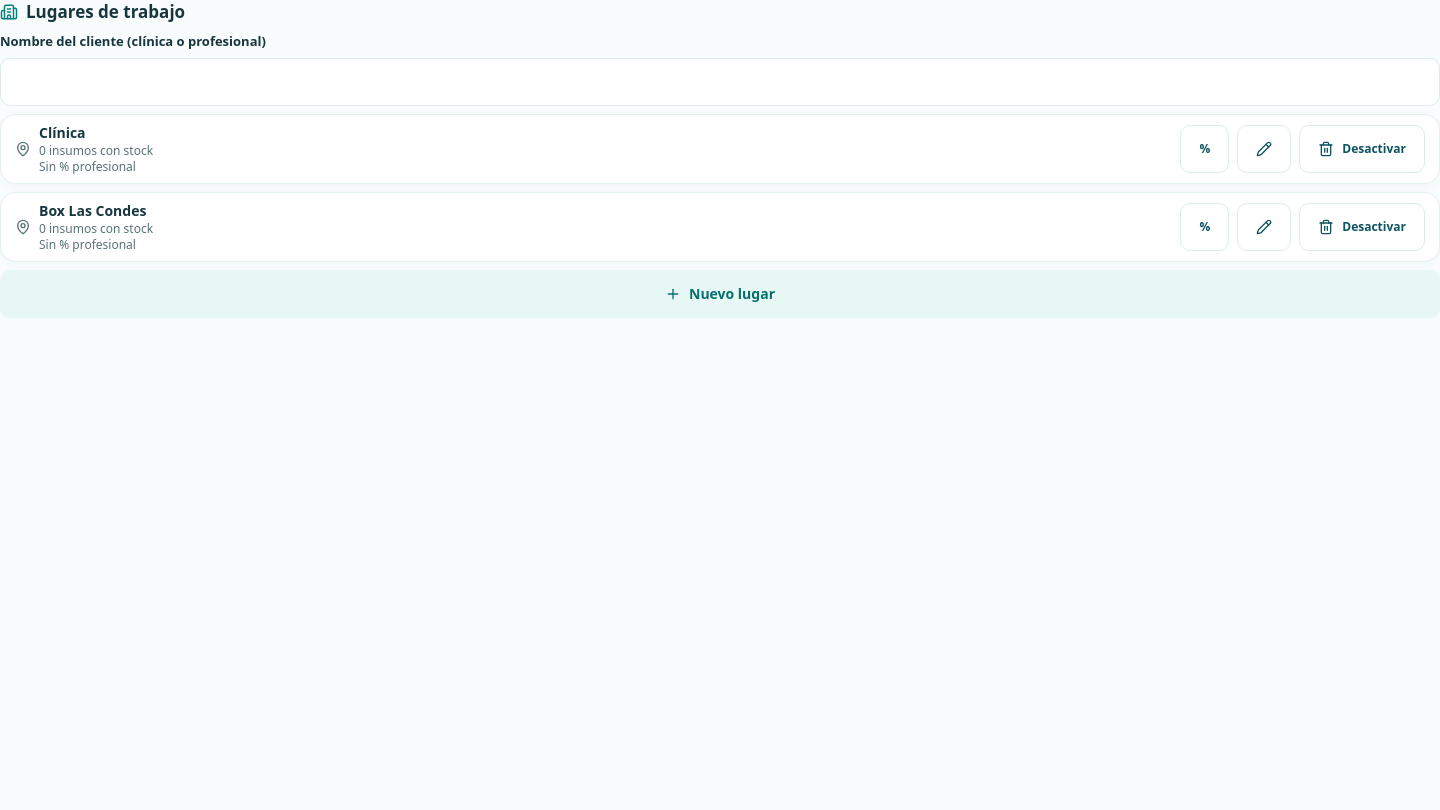
% profesional del lugar (US4) › rechaza un porcentaje fuera de 0–100
This screenshot has width=1440, height=810.
Click the button named "% profesional de Clínica".
click(1205, 148)  # box [1180,124,1229,172]
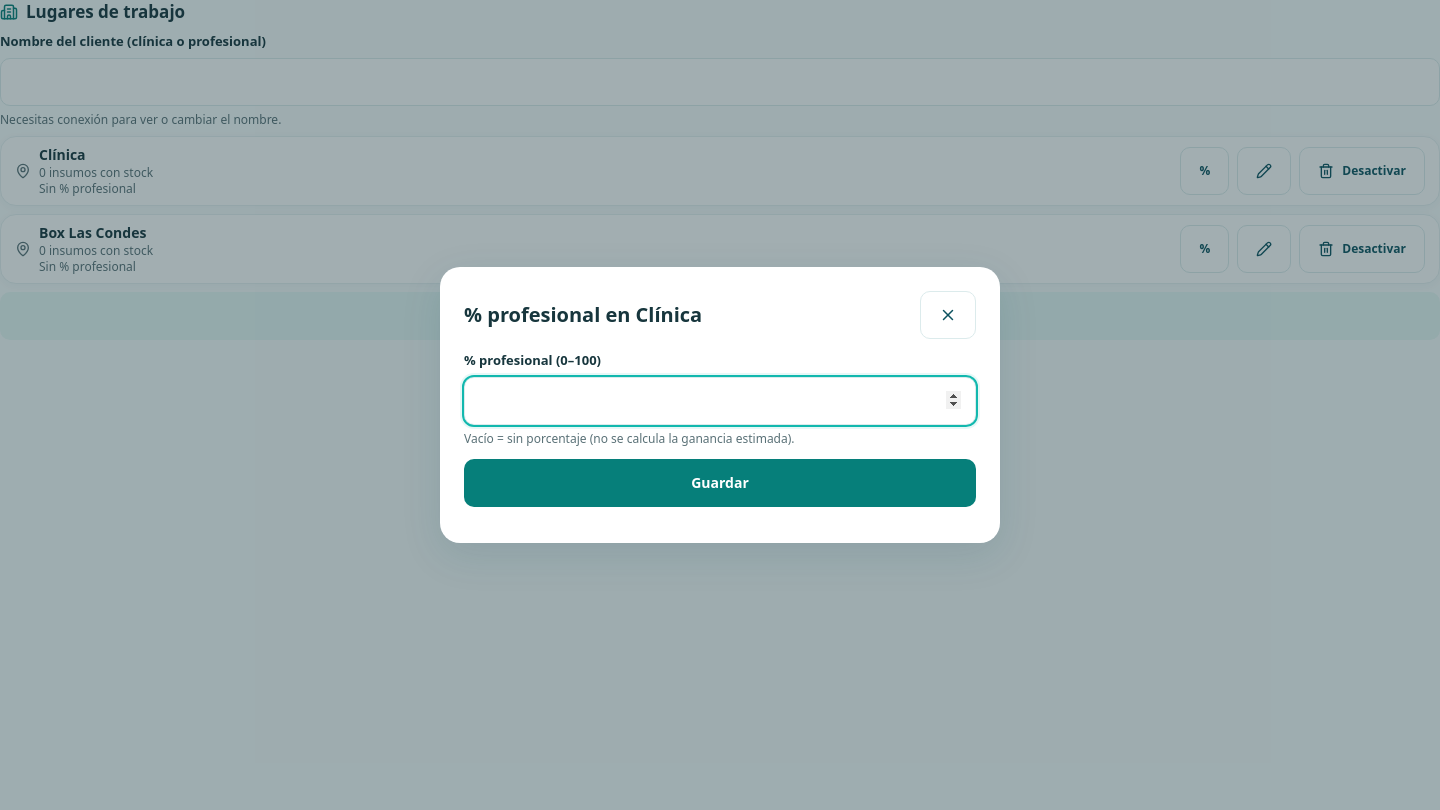
Type "120" into the number field labelled "% profesional (0–100)".
click(720, 401); type("120")  # box [479,391,961,410]
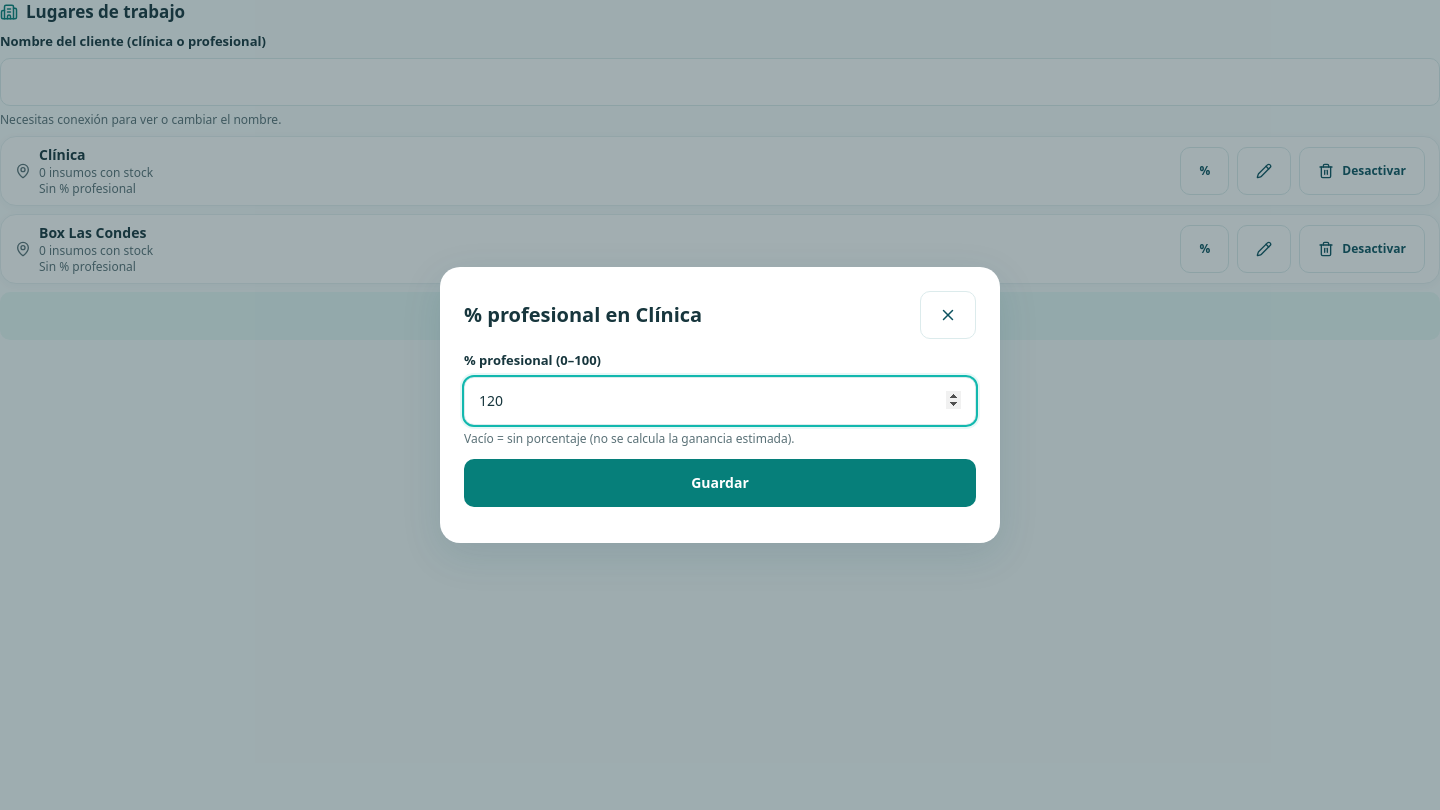
Click the button "Guardar".
click(720, 483)  # box [464,459,976,507]
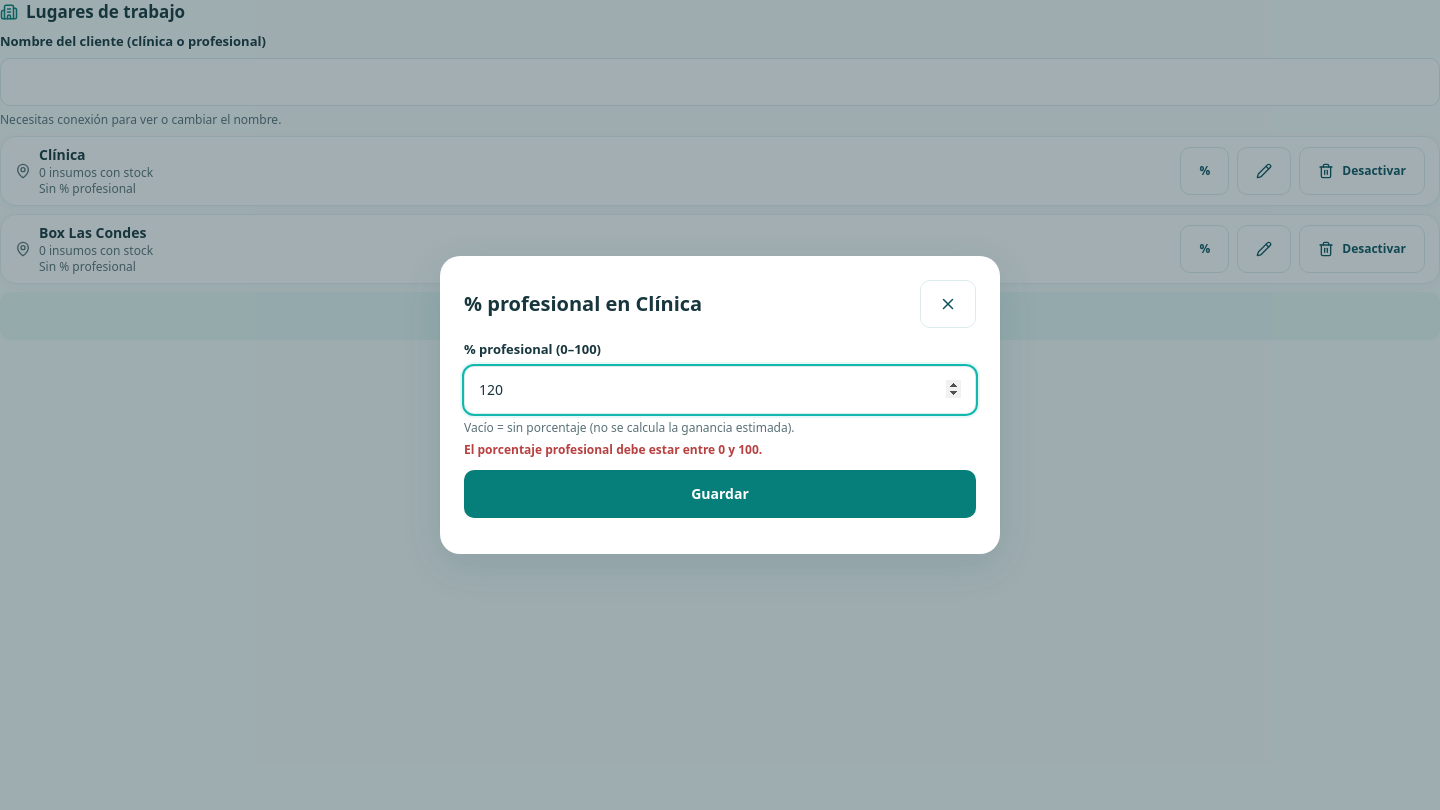
Now the text "El porcentaje profesional debe estar entre 0 y 100." is shown, box [464,441,762,458]
